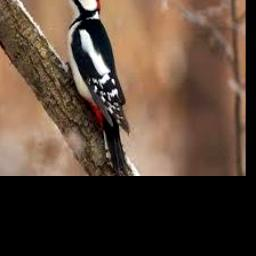Woodpecker: (56, 0, 129, 176)
